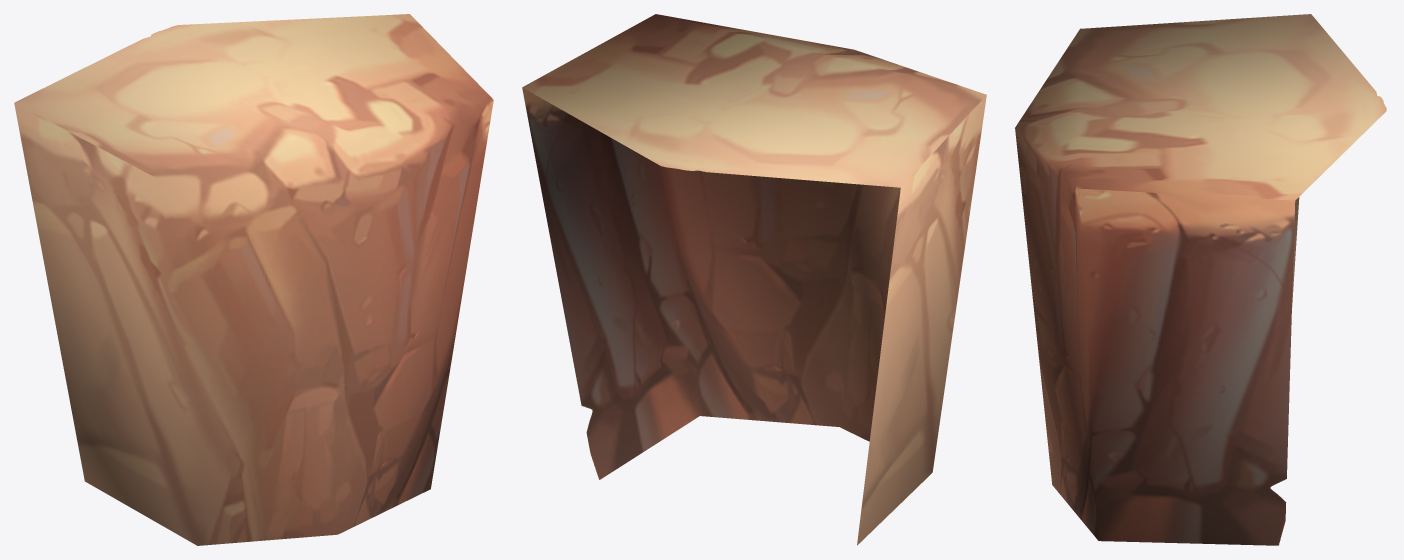
File: Chapter6Scene1Model2Lod.FBX
3 views of the same model, side by side, from view 1: azimuth 30°, elevation 25°; view 2: azimuth 150°, elevation 25°; view 3: azimuth 270°, elevation 25° (orthographic).
Parts seen in each view (by area): view 1: Chapter6Scene1Model2Lod; view 2: Chapter6Scene1Model2Lod; view 3: Chapter6Scene1Model2Lod.
Boxes of the visible parts, left/top/right/bottom form: Chapter6Scene1Model2Lod: left=14, top=14, right=493, bottom=545; Chapter6Scene1Model2Lod: left=522, top=14, right=986, bottom=545; Chapter6Scene1Model2Lod: left=1015, top=14, right=1386, bottom=545.
Size of the model in its own units: 78.64 by 66.7 by 74.32.
